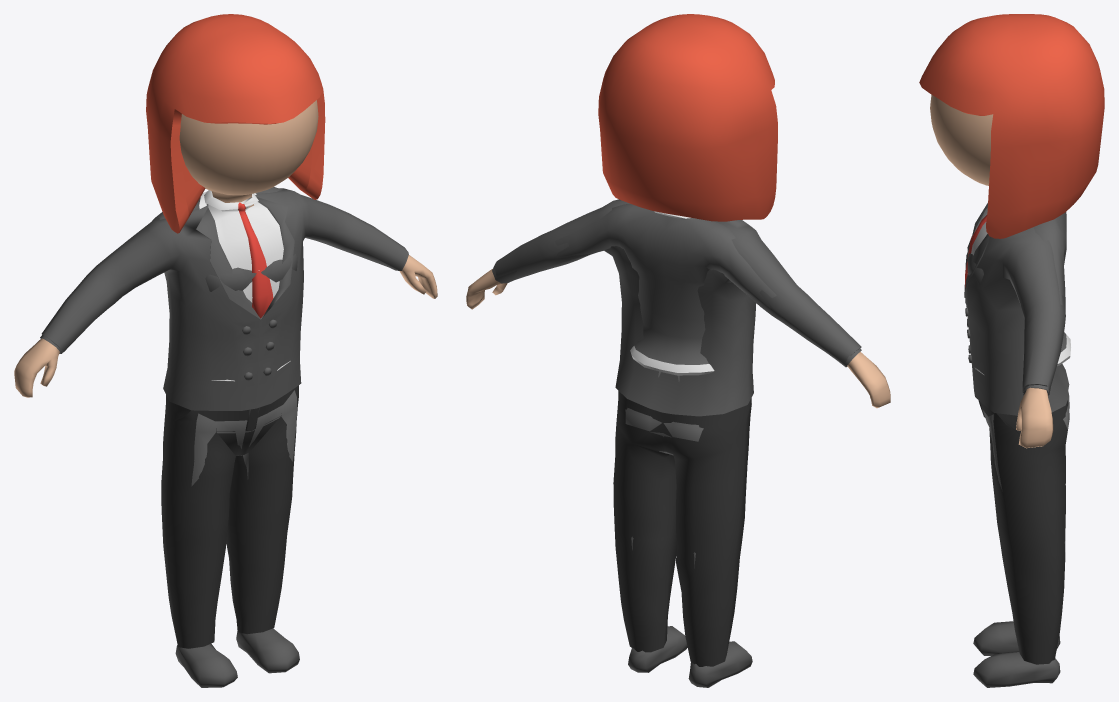
Rendered from hr_Ceo.fbx.
3 renders of one model, left to right at view 1: azimuth 30°, elevation 25°; view 2: azimuth 150°, elevation 25°; view 3: azimuth 270°, elevation 25°, orthographic.
Visible parts, largest first — view 1: ceo, hrKarakter; view 2: hrKarakter, ceo; view 3: hrKarakter, ceo.
Part boxes in pixels (x1,y1,x2,y2): ceo: (41,188,408,648); hrKarakter: (14,14,437,687); hrKarakter: (466,14,890,687); ceo: (493,199,861,666); hrKarakter: (919,14,1104,687); ceo: (964,203,1069,664).
Bounding box in the file's own units: 118 × 173 × 45.43.
